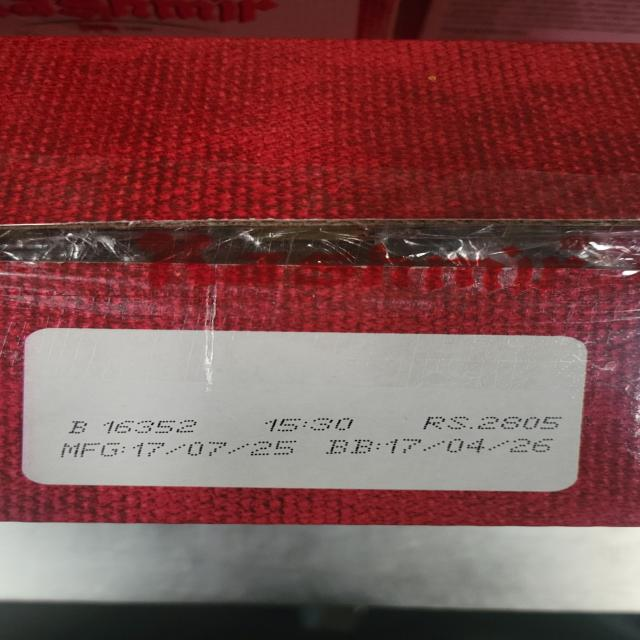BB: (326, 437, 563, 456)
Batch: (64, 415, 200, 438)
MFG: (59, 441, 305, 457)
RS: (417, 413, 570, 434)
TimeStamp: (261, 413, 361, 434)
